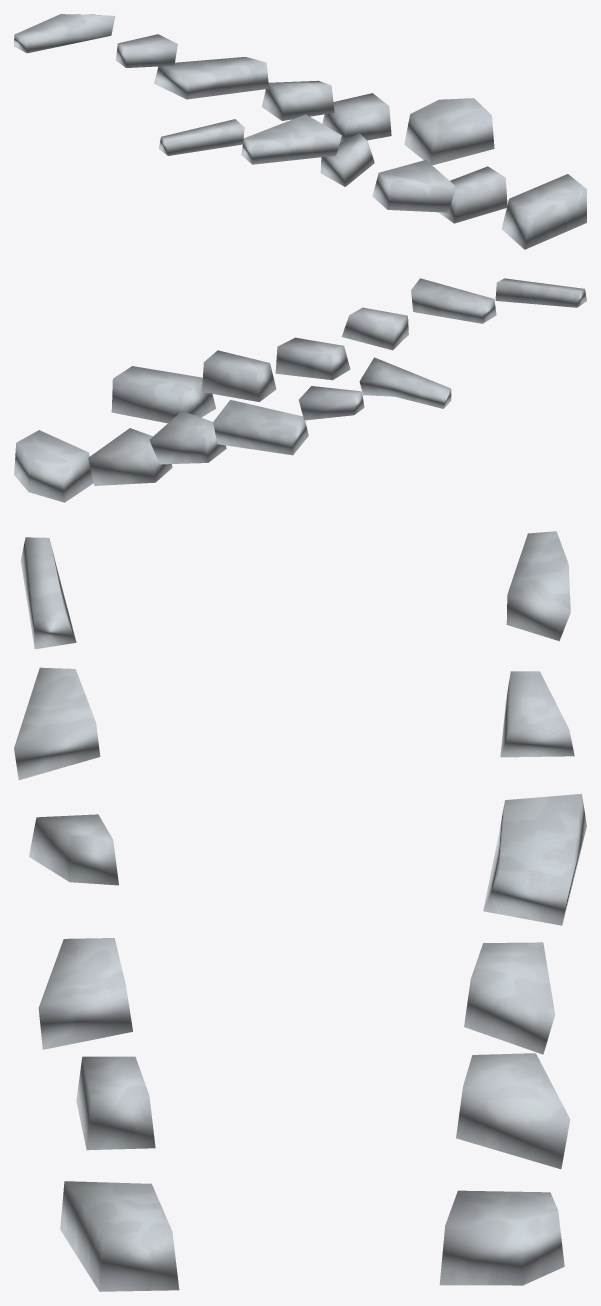
File: House_Stairs_Snow.fbx
3 renders of one model, top to bottom at view 1: azimuth 30°, elevation 25°; view 2: azimuth 150°, elevation 25°; view 3: azimuth 270°, elevation 25°, orthographic. The views are drawn at different scales.
Parts seen in each view (by area): view 1: House_Stairs_Snow; view 2: House_Stairs_Snow; view 3: House_Stairs_Snow.
Part boxes in pixels (box(x1,y1,x2,y2)): House_Stairs_Snow: box(14, 14, 586, 249); House_Stairs_Snow: box(14, 278, 586, 502); House_Stairs_Snow: box(14, 531, 586, 1291).
Size of the model in its own units: 311 by 140 by 190.
